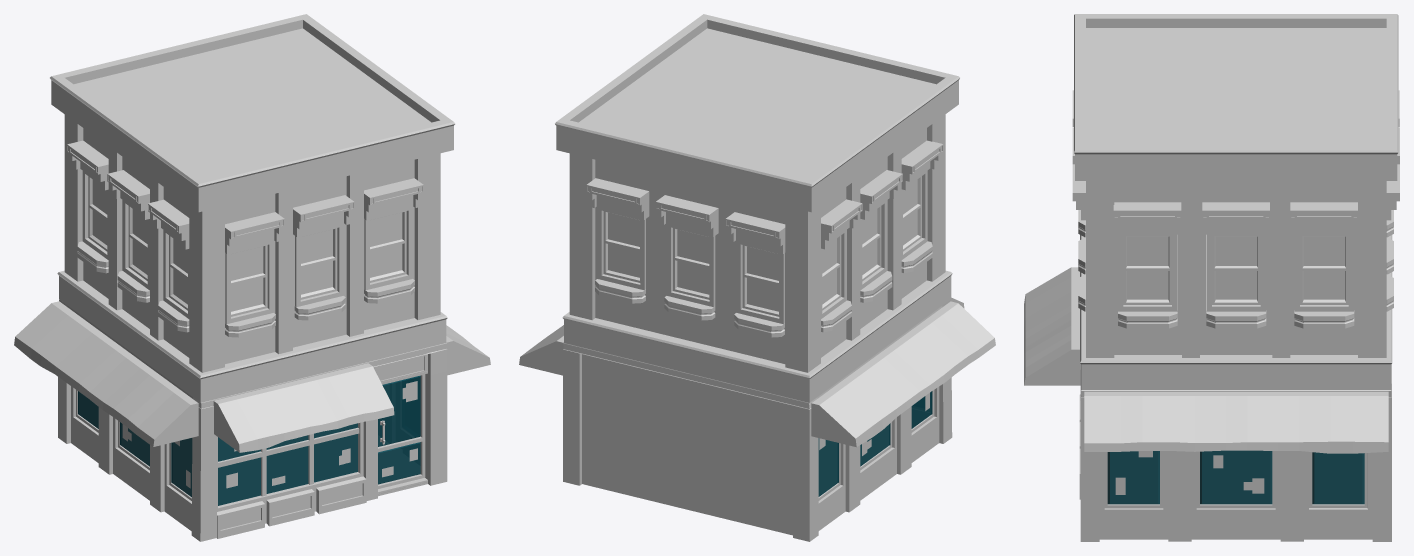
File: shop_01_medium.fbx
3 views of the same model, side by side, from view 1: azimuth 30°, elevation 25°; view 2: azimuth 150°, elevation 25°; view 3: azimuth 270°, elevation 25° (orthographic). The views are drawn at different scales.
Parts seen in each view (by area): view 1: shop_01_medium, shop_01_medium_glass; view 2: shop_01_medium, shop_01_medium_glass; view 3: shop_01_medium, shop_01_medium_glass.
Boxes of the visible parts, x1=… form: shop_01_medium: x1=14, y1=14, x2=490, y2=541; shop_01_medium_glass: x1=78, y1=375, x2=420, y2=505; shop_01_medium: x1=519, y1=14, x2=995, y2=541; shop_01_medium_glass: x1=818, y1=391, x2=932, y2=496; shop_01_medium: x1=1024, y1=14, x2=1399, y2=541; shop_01_medium_glass: x1=1107, y1=450, x2=1364, y2=504.
Size of the model in its own units: 850 by 870 by 750.
